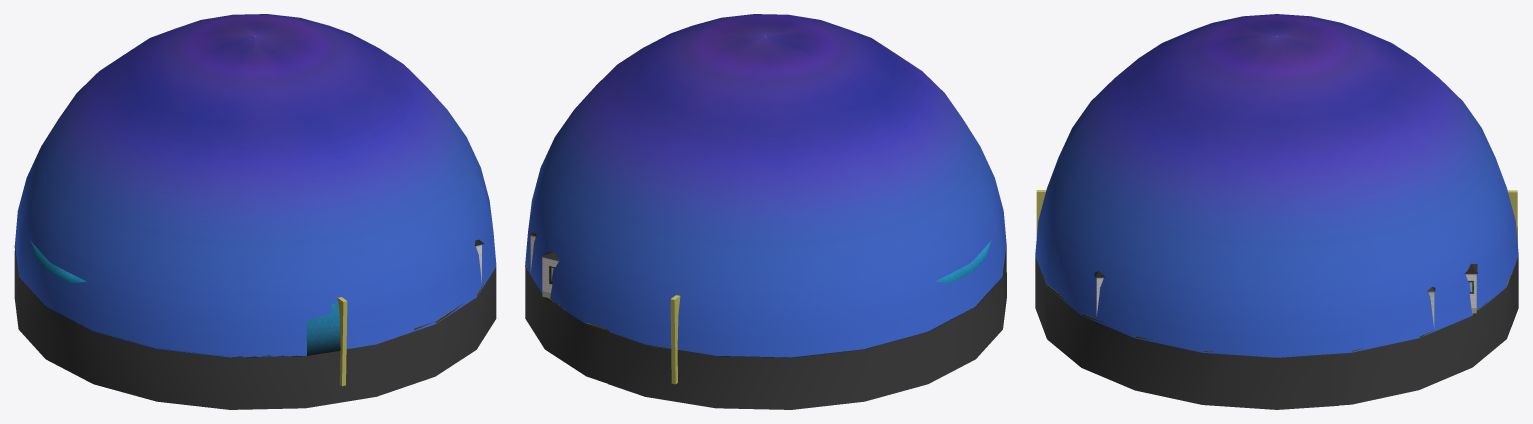
Rendered from levee.dae.
The picture shows the model from 3 angles, left to right: view 1: azimuth 30°, elevation 25°; view 2: azimuth 150°, elevation 25°; view 3: azimuth 270°, elevation 25°; orthographic projection.
Parts seen in each view (by area): view 1: sky, earth, water, levee; view 2: sky, earth, water, levee, house5; view 3: sky, earth, levee.
Part boxes in pixels (x1=…): sky: x1=15, y1=14, x2=496, y2=357; earth: x1=14, y1=251, x2=496, y2=409; water: x1=30, y1=240, x2=340, y2=357; levee: x1=337, y1=297, x2=347, y2=386; sky: x1=525, y1=14, x2=1006, y2=357; earth: x1=525, y1=247, x2=1006, y2=409; water: x1=682, y1=240, x2=1002, y2=357; levee: x1=670, y1=295, x2=680, y2=384; house5: x1=541, y1=251, x2=559, y2=298; sky: x1=1035, y1=14, x2=1518, y2=357; earth: x1=1035, y1=256, x2=1518, y2=409; levee: x1=1036, y1=190, x2=1517, y2=244.
Size of the model in its own units: 105 by 64.84 by 105.
22 materials, 8 textured.
